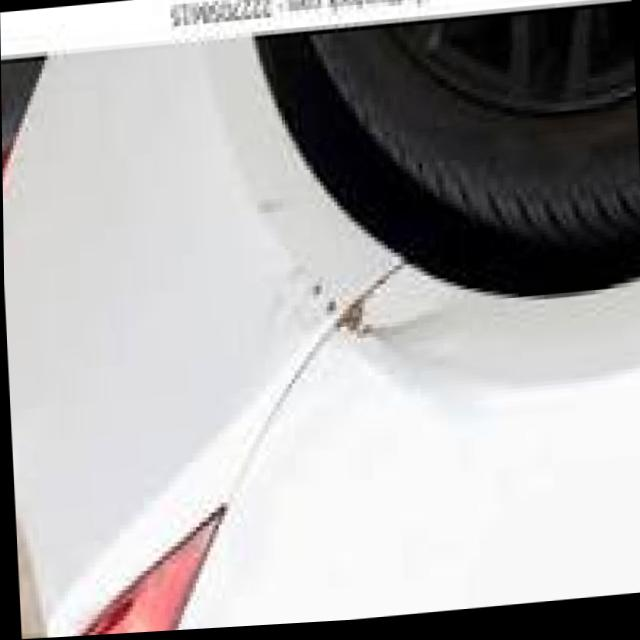Scratch: (256, 254, 439, 383)
